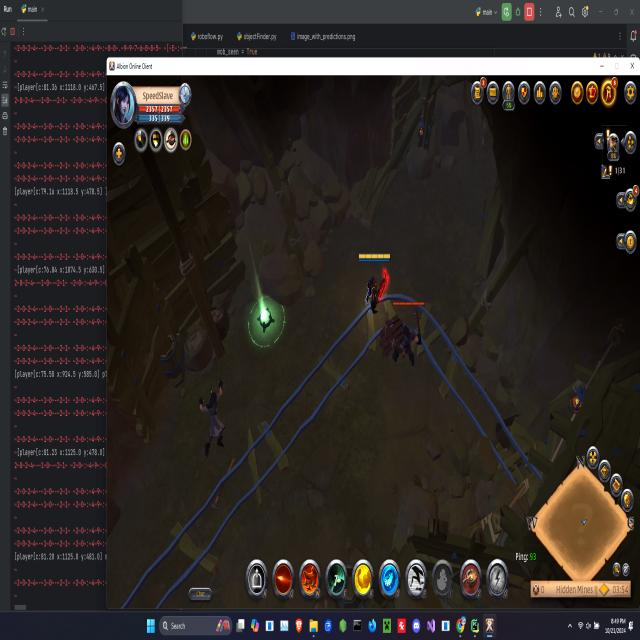ore: (378, 296, 429, 374)
red: (357, 252, 392, 317)
